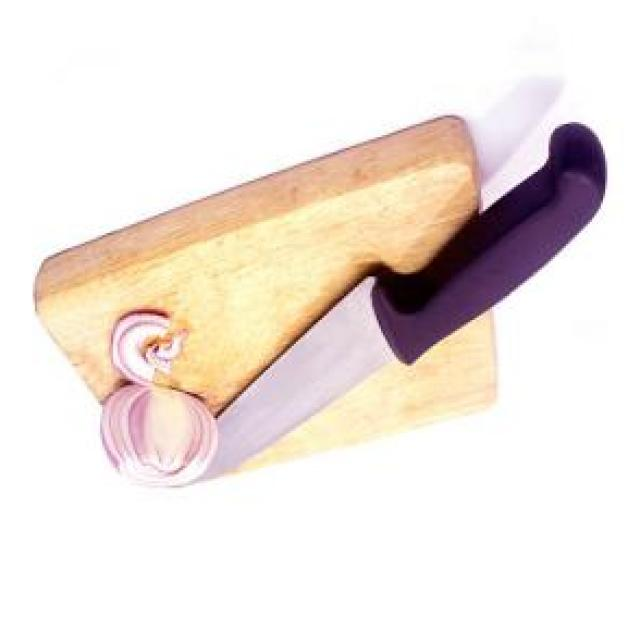knife: (174, 120, 614, 490)
